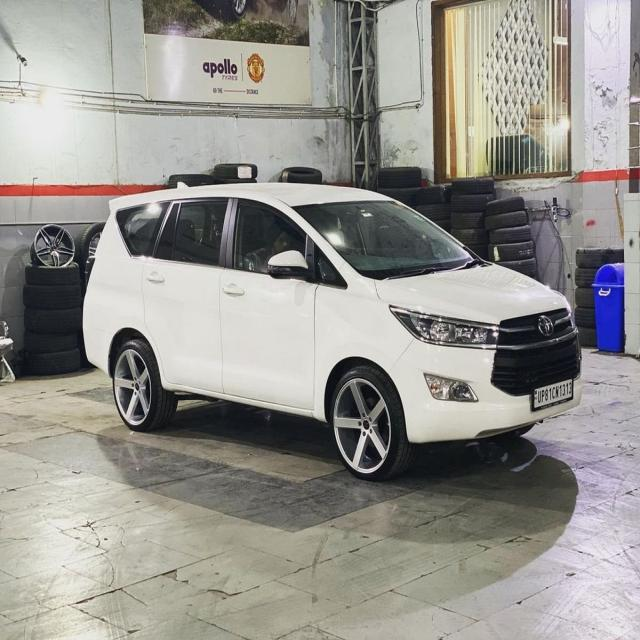light_vehicle: (81, 174, 584, 482)
